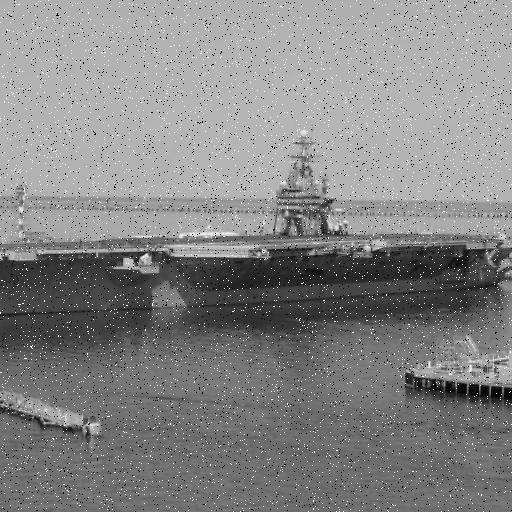Portanaves: (1, 108, 512, 318)
